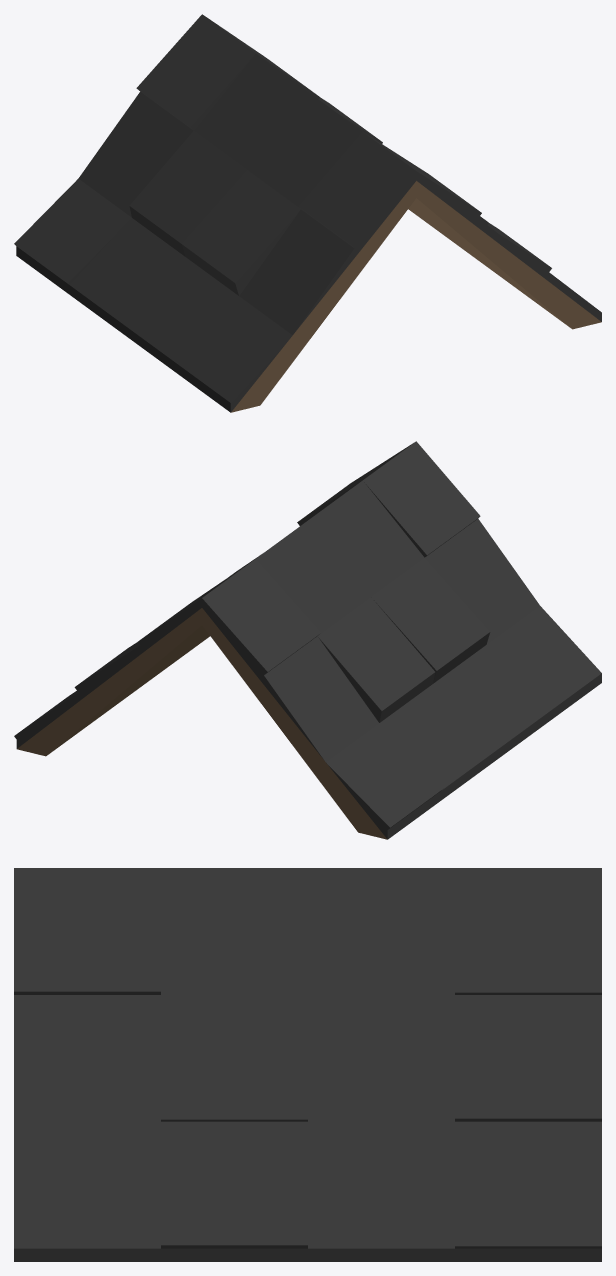
Rendered from roof_top_mid.glb.
3 views of the same model, one above another, from view 1: azimuth 30°, elevation 25°; view 2: azimuth 150°, elevation 25°; view 3: azimuth 270°, elevation 25° (orthographic). The views are drawn at different scales.
Visible parts, largest first — view 1: Roof_Top_Mid; view 2: Roof_Top_Mid; view 3: Roof_Top_Mid.
Boxes of the visible parts, box(x1,y1,x2,y2) form: Roof_Top_Mid: box(14, 14, 601, 412); Roof_Top_Mid: box(14, 441, 601, 839); Roof_Top_Mid: box(14, 868, 601, 1261).
Bounding box in the file's own units: 2.03 × 1.01 × 2.
1 material, 1 textured.
